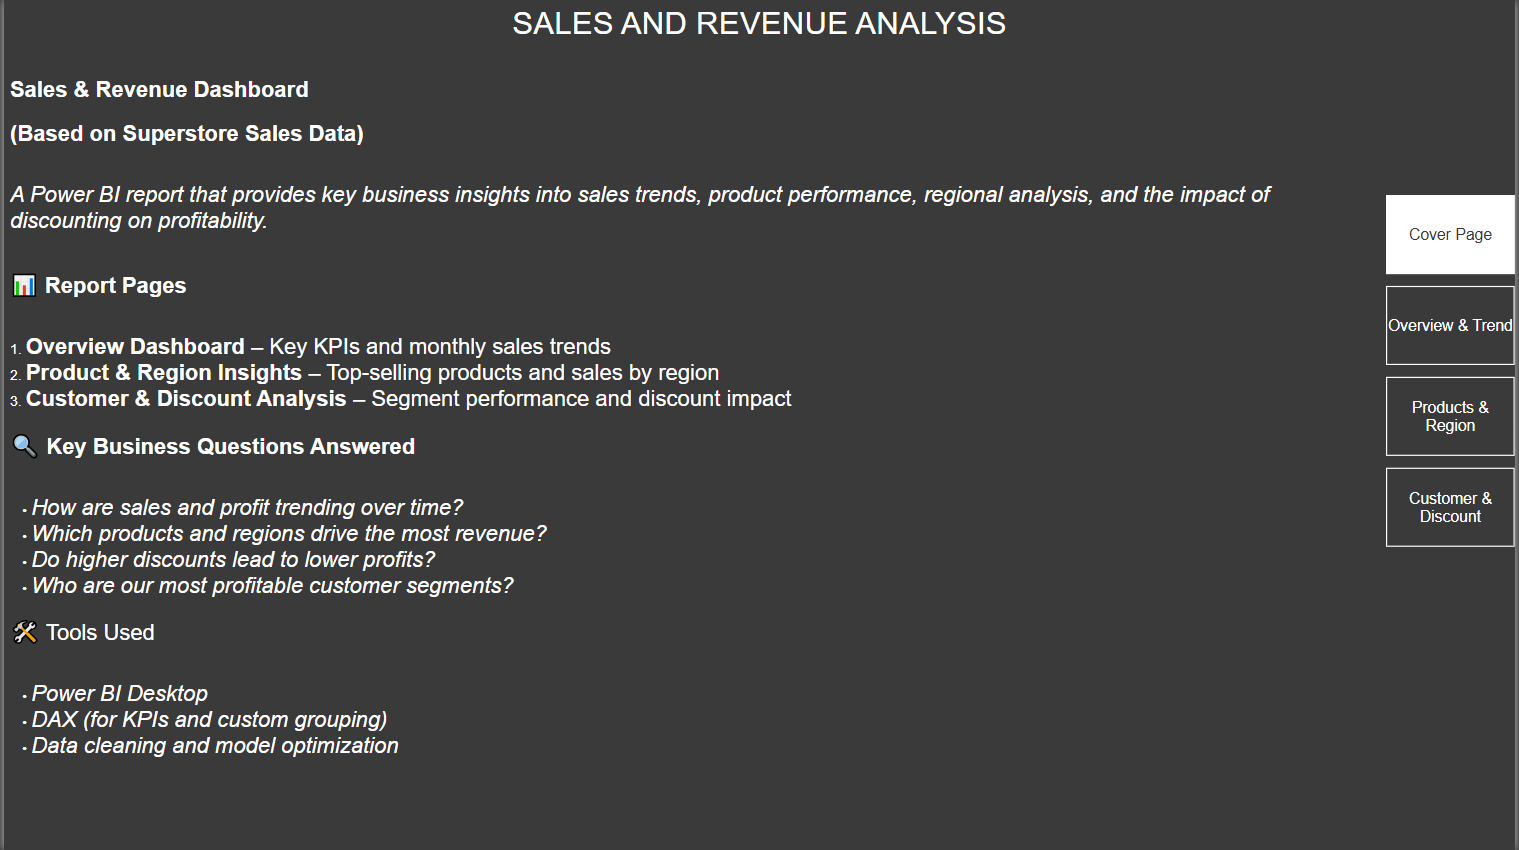

This screenshot's page, from the dashboard's own definition file:
{"tool":"powerbi","page":{"name":"Cover Page","canvas":[1280,720],"ordinal":0},"visuals":[{"type":"textbox","box":[0,0,1280,60.4],"z":0},{"type":"textbox","box":[0,60.1,1170.2,659.9],"z":1000},{"type":"pageNavigator","box":[1170.2,165.4,109.7,299.9],"z":1001}]}

Visuals, with their boxes in screenshot pixels (x1, y1, x2, y2), scaled from the page's 1280x720 canvas onto the 1519x850 screenshot:
textbox: 0:0:1518:71
textbox: 0:71:1389:849
pageNavigator: 1389:195:1518:549
